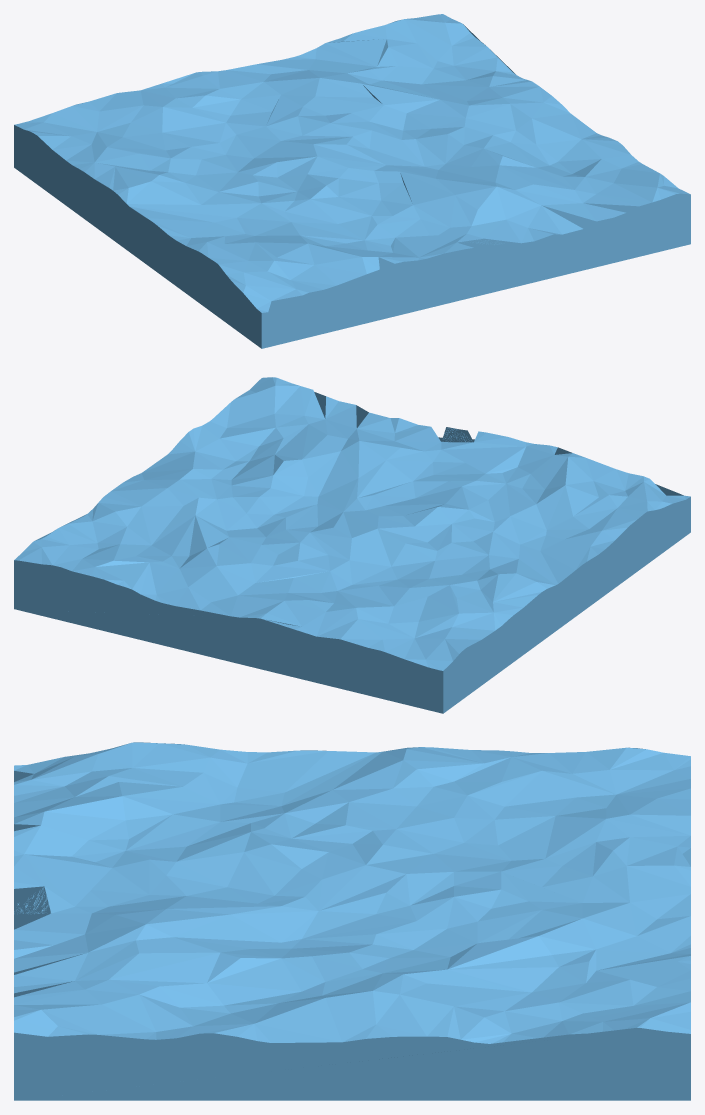
The model's file is water.glb.
The picture shows the model from 3 angles, top to bottom: view 1: azimuth 30°, elevation 25°; view 2: azimuth 150°, elevation 25°; view 3: azimuth 270°, elevation 25°; orthographic projection. The views are drawn at different scales.
Parts seen in each view (by area): view 1: pPlane1; view 2: pPlane1; view 3: pPlane1.
Boxes of the visible parts, x1=… form: pPlane1: x1=14, y1=14, x2=690, y2=348; pPlane1: x1=14, y1=377, x2=690, y2=713; pPlane1: x1=14, y1=742, x2=690, y2=1100.
Size of the model in its own units: 0.24 by 0.0309 by 0.24.
